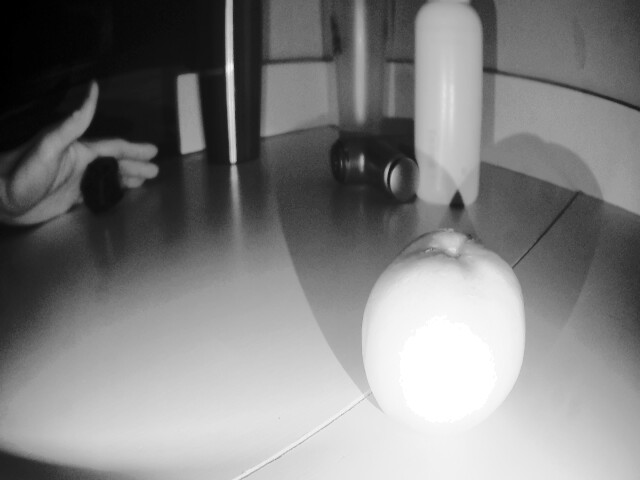black: (72, 149, 135, 213)
